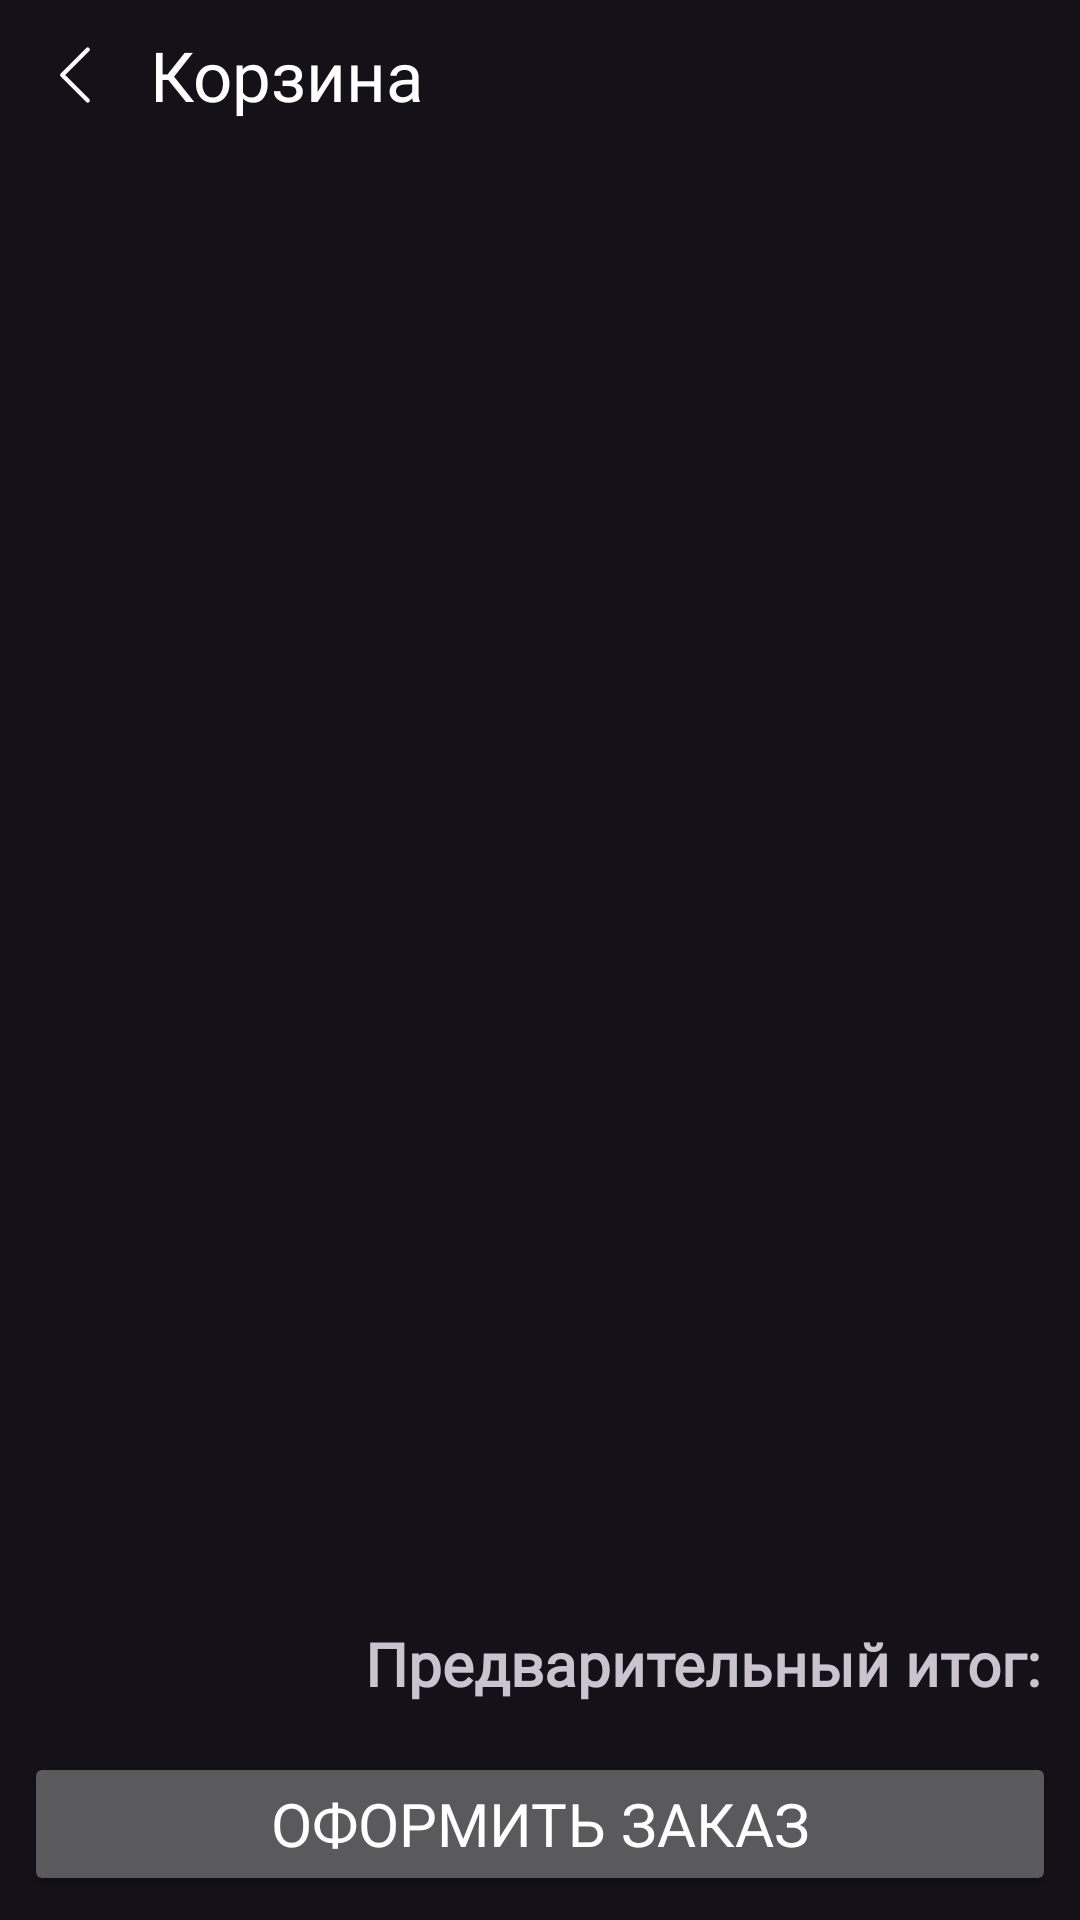

Point at icon controls on the screen. Image size 1080w x 1920h, points as point (x, y).
arrow left: point (75, 75)
